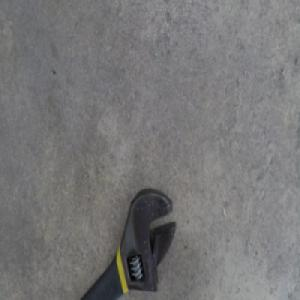AdjustableWrench: (77, 185, 174, 298)
